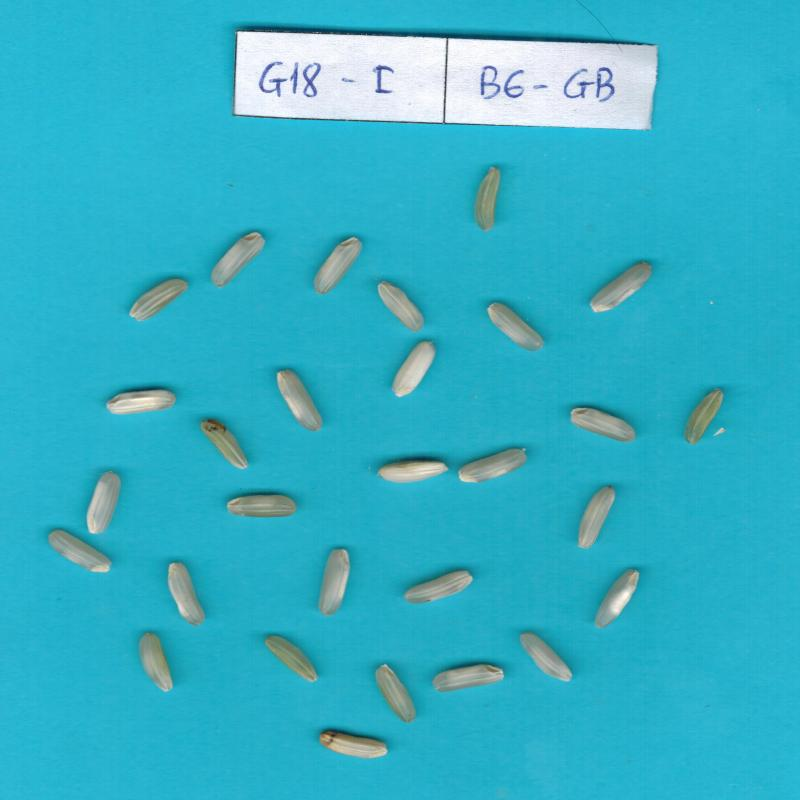Inferior: (319, 731, 387, 759)
Rice: (591, 262, 651, 312), (211, 232, 265, 287), (276, 370, 322, 432), (314, 237, 363, 293), (488, 302, 543, 351), (49, 530, 111, 573), (595, 569, 638, 628), (129, 278, 187, 321), (519, 634, 572, 681), (392, 341, 435, 398), (578, 486, 616, 550), (377, 282, 424, 332), (201, 419, 248, 469), (376, 665, 416, 723), (458, 449, 526, 483), (169, 562, 205, 626), (266, 636, 316, 682), (405, 571, 473, 604), (86, 472, 121, 534), (571, 408, 635, 441), (685, 389, 723, 444), (433, 664, 504, 693), (319, 550, 350, 615), (139, 634, 173, 691), (107, 389, 176, 415), (378, 460, 448, 483), (228, 494, 296, 517), (476, 167, 500, 231)
